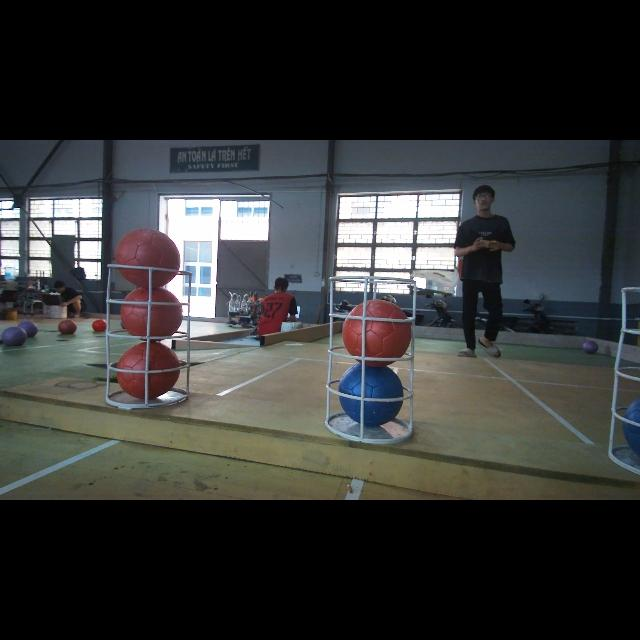B: (338, 364, 404, 428)
R: (342, 299, 412, 366), (114, 228, 180, 288), (116, 342, 182, 401), (120, 288, 183, 342)
